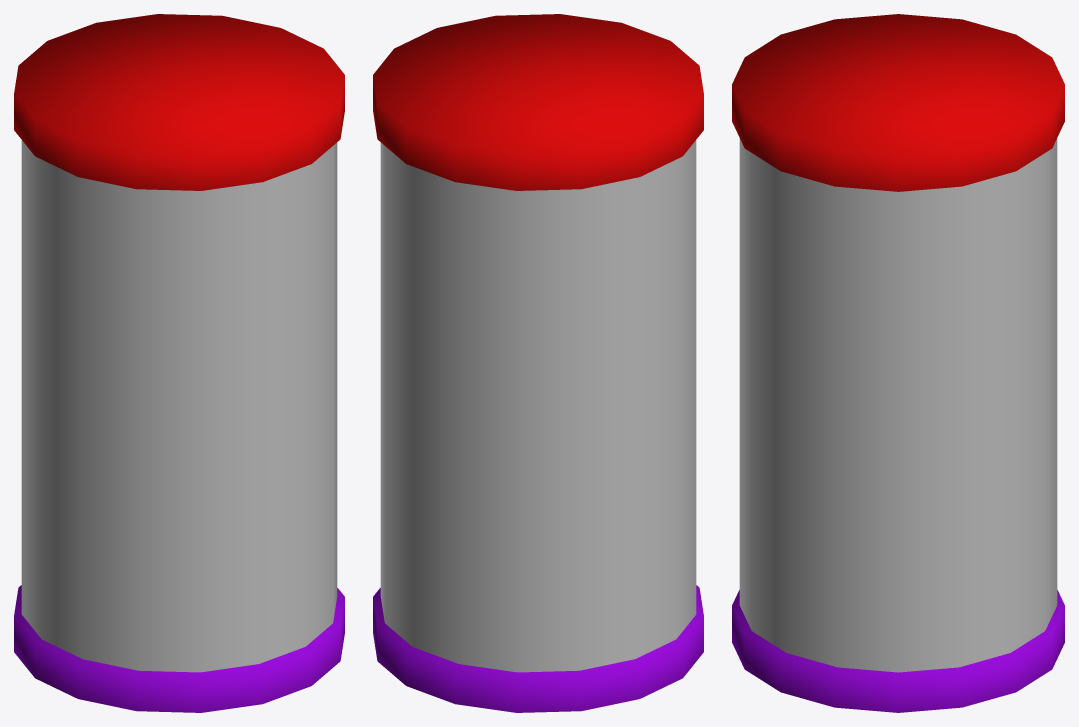
The model's file is Laboratory.FBX.
The picture shows the model from 3 angles, left to right: view 1: azimuth 30°, elevation 25°; view 2: azimuth 150°, elevation 25°; view 3: azimuth 270°, elevation 25°; orthographic projection.
Parts seen in each view (by area): view 1: Object020; view 2: Object020; view 3: Object020.
Boxes of the visible parts, x1,y1,x2,y2 form: Object020: [14, 14, 344, 712]; Object020: [373, 14, 703, 712]; Object020: [732, 14, 1064, 712].
Bounding box in the file's own units: 91.29 × 169 × 91.29.
